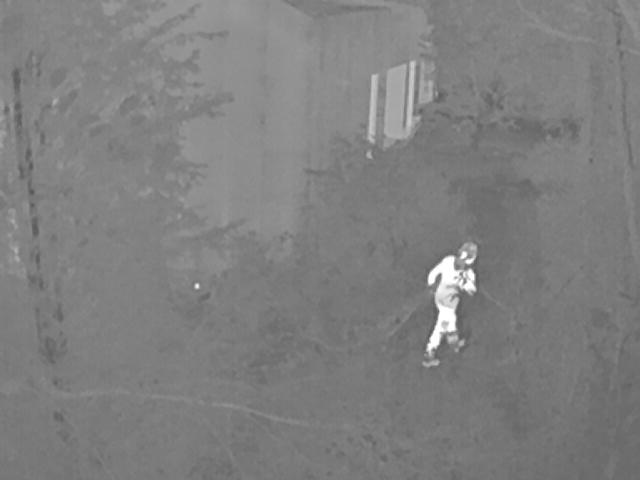person: (424, 240, 481, 365)
